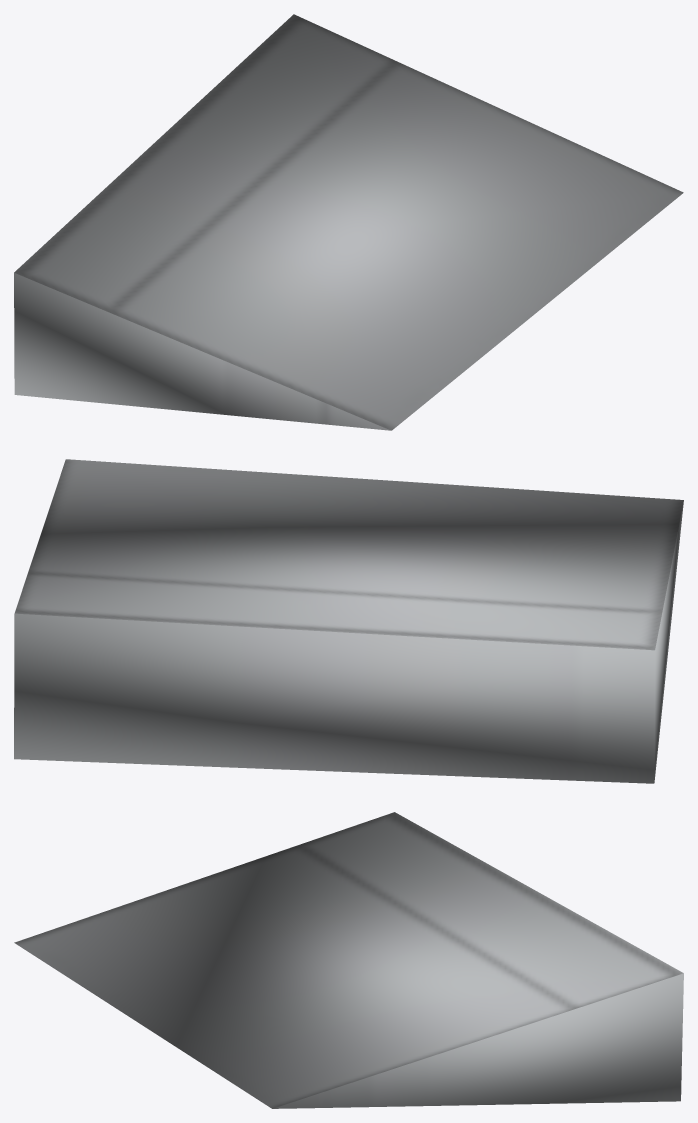
Rendered from left_aileron.glb.
The picture shows the model from 3 angles, top to bottom: view 1: azimuth 30°, elevation 25°; view 2: azimuth 150°, elevation 25°; view 3: azimuth 270°, elevation 25°; orthographic projection. The views are drawn at different scales.
Parts seen in each view (by area): view 1: LWingAileron; view 2: LWingAileron; view 3: LWingAileron.
Part boxes in pixels (x1,y1,x2,y2): LWingAileron: (14,14,683,430); LWingAileron: (14,459,683,783); LWingAileron: (14,812,683,1108).
Bounding box in the file's own units: 3.15 × 0.8086 × 3.2.
Materials: 1 (1 with a texture image).
